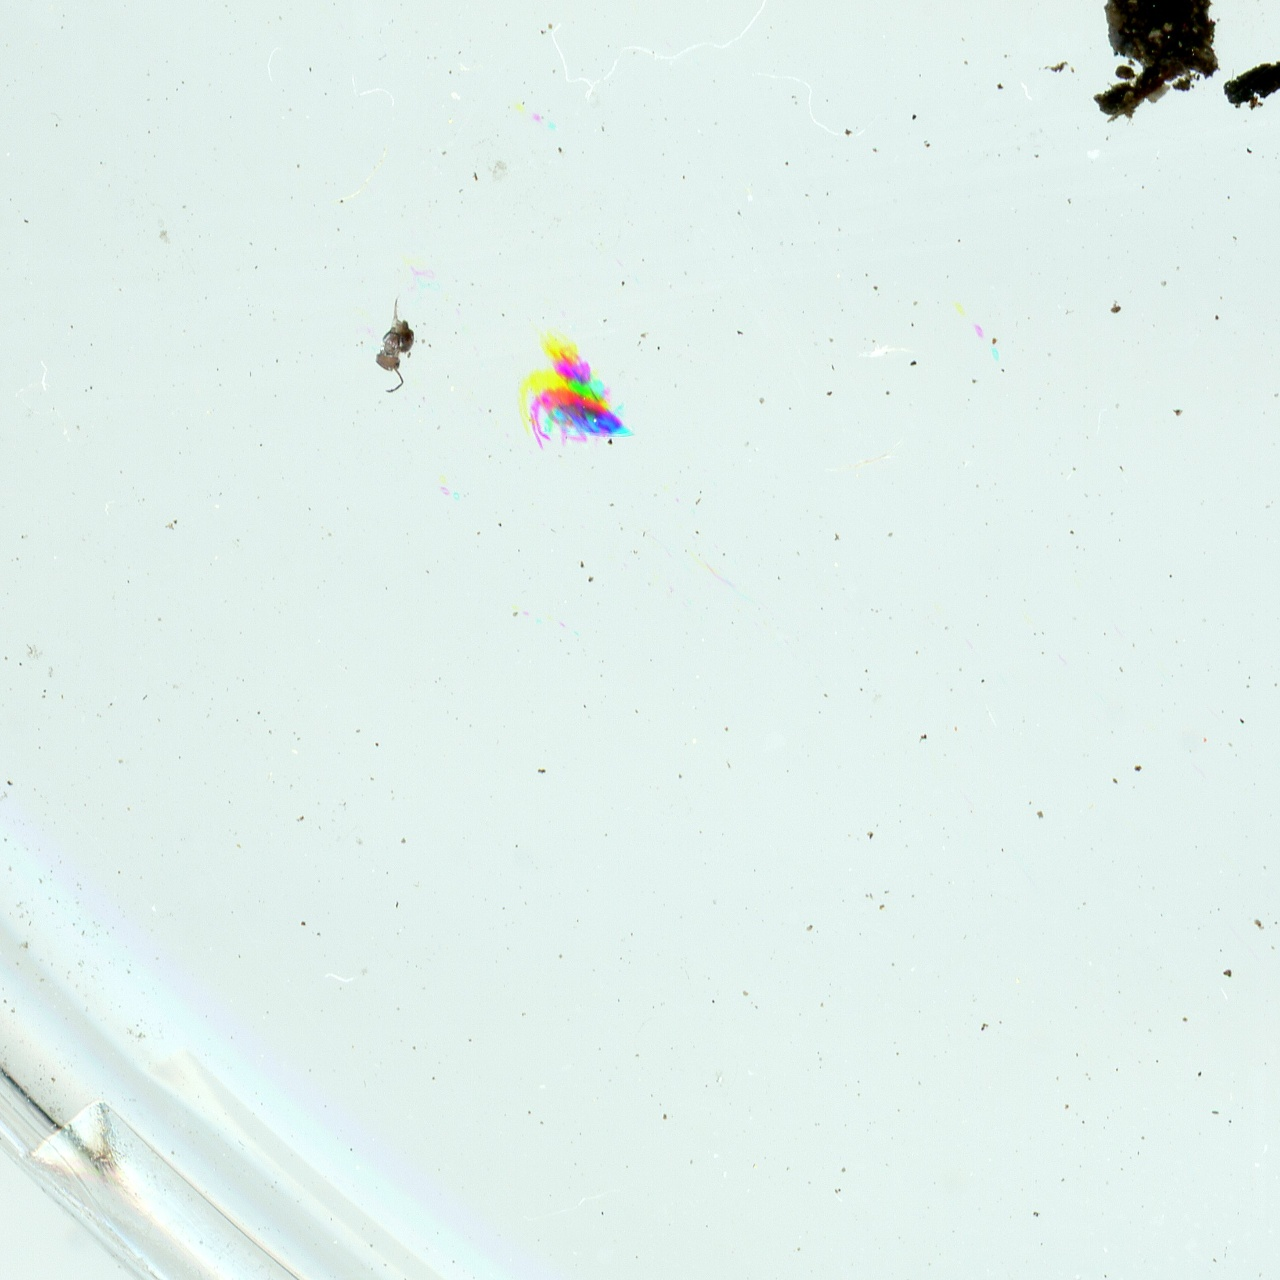arthropod: (524, 381, 630, 451), (373, 295, 417, 393), (545, 336, 599, 384)
